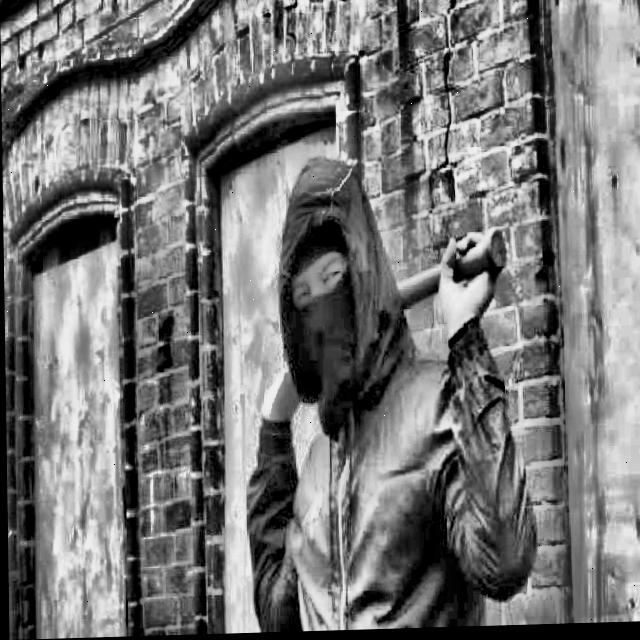robbery: (229, 138, 550, 633)
